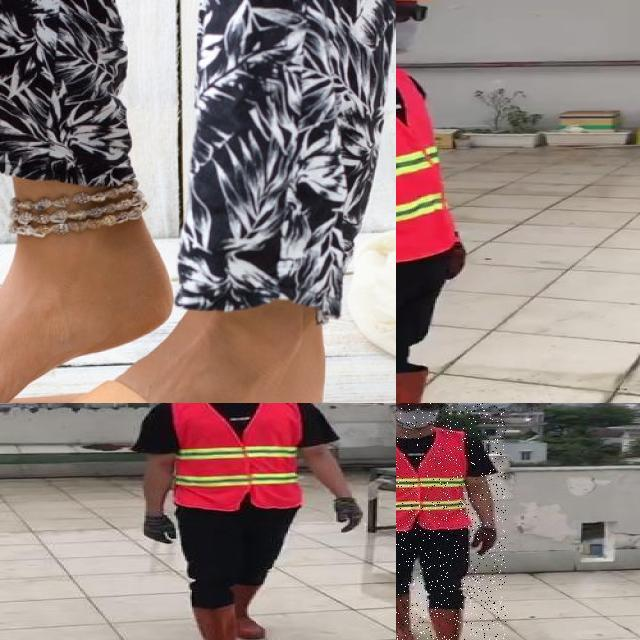Sandals: (0, 283, 335, 403)
boots: (396, 372, 483, 403), (229, 581, 267, 640), (190, 606, 250, 640), (430, 607, 476, 640), (396, 593, 415, 640)
hand_glove: (332, 495, 364, 533), (142, 516, 182, 545)
person: (127, 403, 373, 640), (396, 0, 508, 403), (396, 403, 506, 640)
vest: (169, 403, 304, 511), (396, 60, 456, 263), (396, 429, 473, 530)
